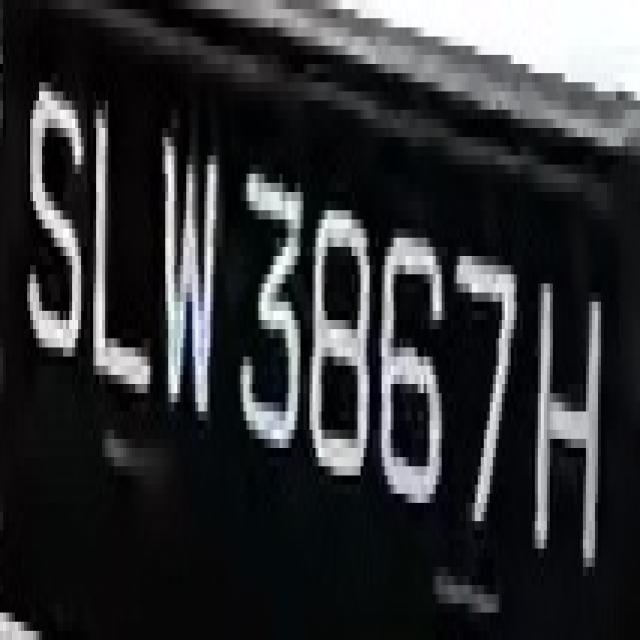3: (234, 128, 304, 485)
6: (382, 219, 444, 512)
7: (445, 192, 520, 549)
8: (300, 165, 372, 484)
H: (526, 238, 607, 594)
L: (84, 92, 153, 420)
S: (24, 82, 90, 402)
W: (150, 110, 222, 448)
